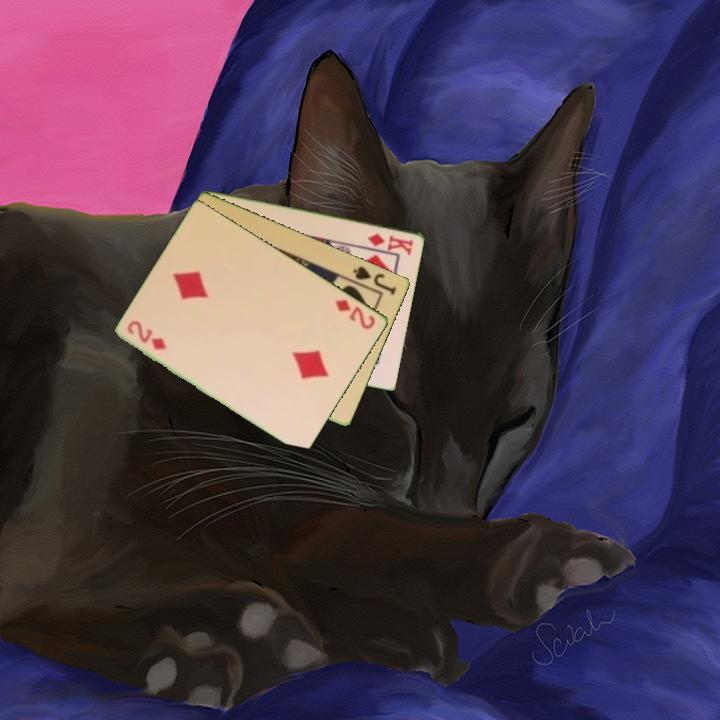2d: (332, 296, 378, 332), (124, 317, 170, 353)
Js: (349, 262, 399, 298)
Kd: (364, 229, 416, 256)
